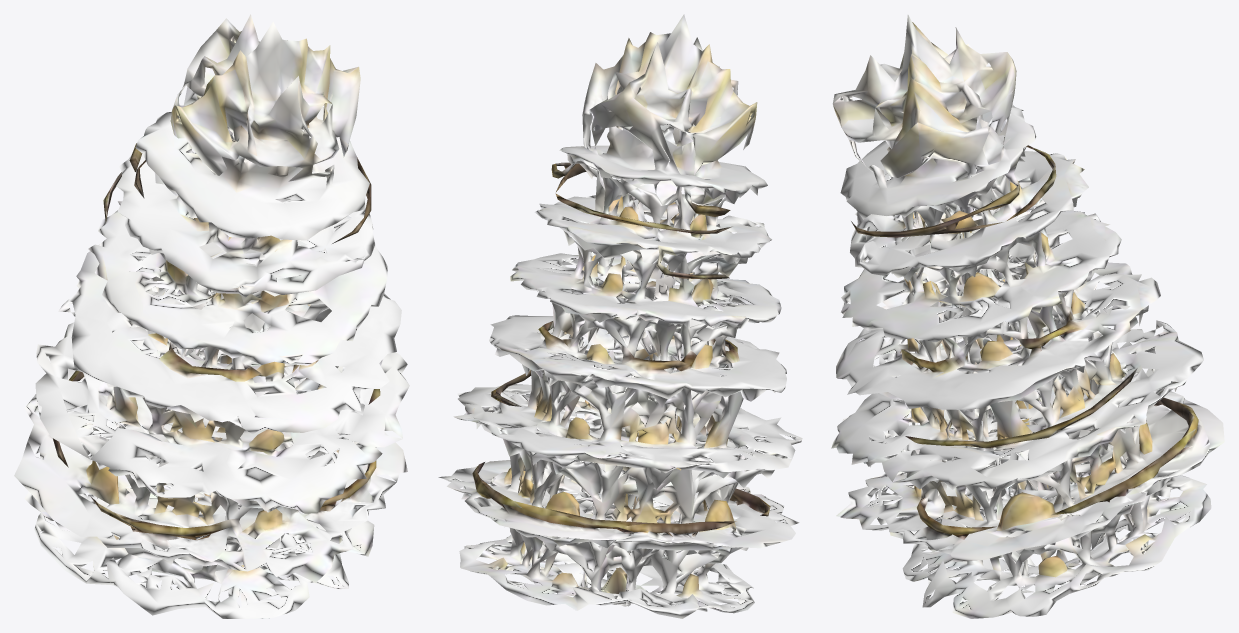
Rendered from agatha_fortress.glb.
3 views of the same model, side by side, from view 1: azimuth 30°, elevation 25°; view 2: azimuth 150°, elevation 25°; view 3: azimuth 270°, elevation 25° (orthographic). The views are drawn at different scales.
Bounding box in the file's own units: 0.488 × 0.7882 × 0.5053.
Materials: 1 (1 with a texture image).
